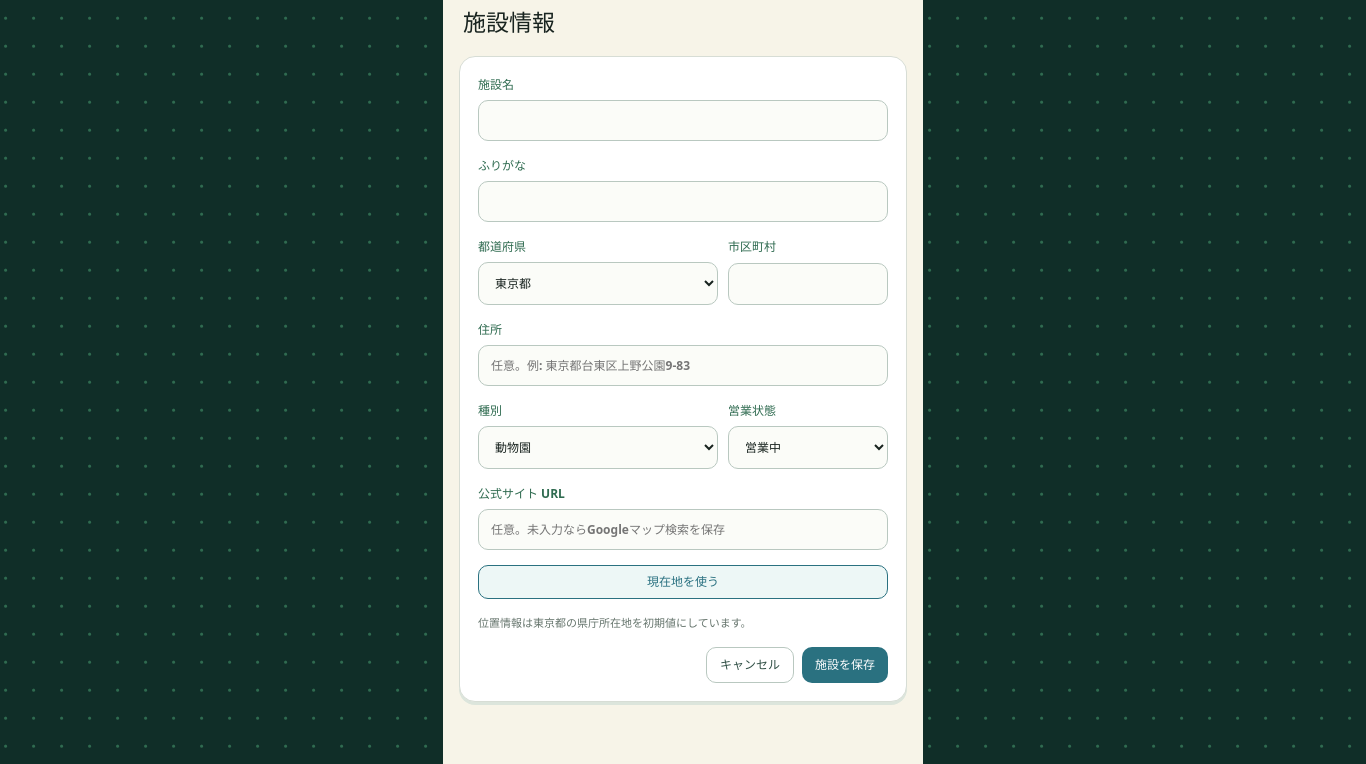
AddFacilityPanel › 施設名が空なら保存しない
(page scrolled)
Click the button "施設を保存": (845, 665) x1=802 y1=647 x2=888 y2=683
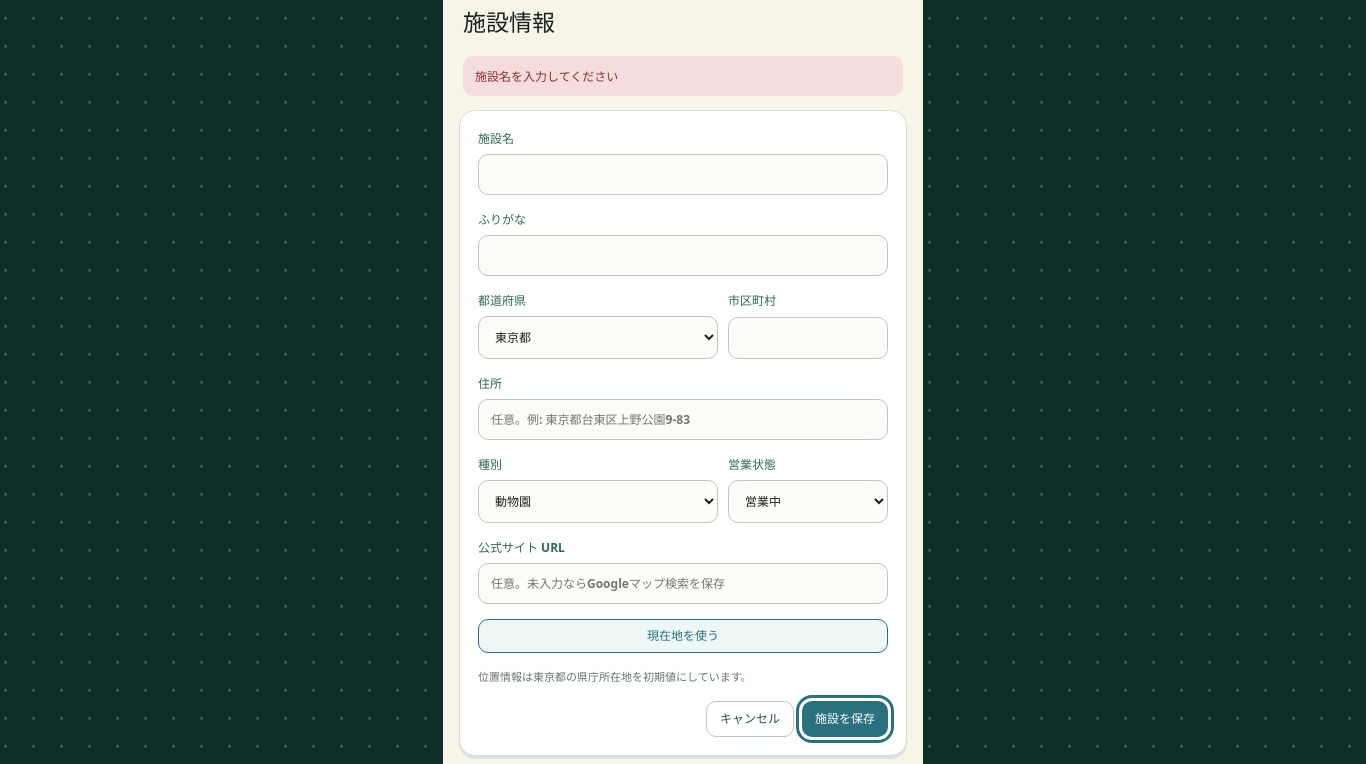
Now the text "施設名を入力してください" is shown, box x1=463 y1=56 x2=903 y2=96
